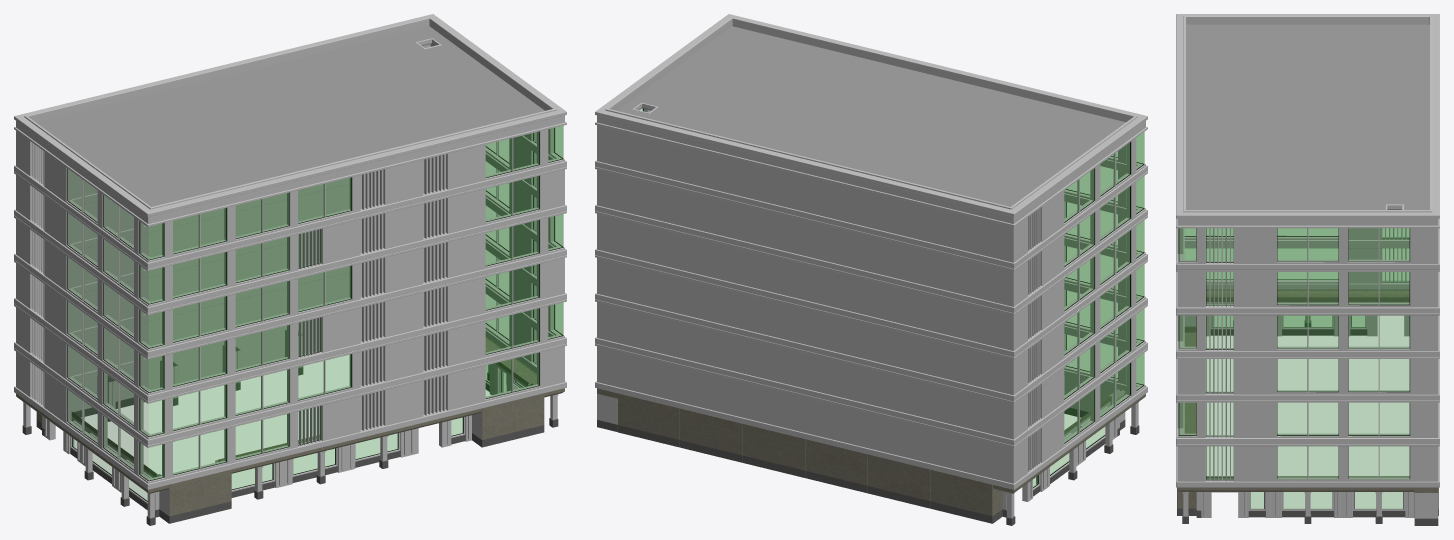
The model's file is SM_Building13_V1.fbx.
The picture shows the model from 3 angles, left to right: view 1: azimuth 30°, elevation 25°; view 2: azimuth 150°, elevation 25°; view 3: azimuth 270°, elevation 25°; orthographic projection.
Visible parts, largest first — view 1: SM_Building13_V1; view 2: SM_Building13_V1; view 3: SM_Building13_V1.
Part boxes in pixels (<box>): SM_Building13_V1: <box>14,14,566,525</box>; SM_Building13_V1: <box>595,14,1147,525</box>; SM_Building13_V1: <box>1176,14,1439,525</box>.
Size of the model in its own units: 4023 by 2906 by 2223.
